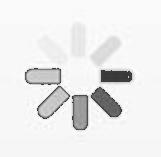ProgressBar: (1, 1, 160, 156)
